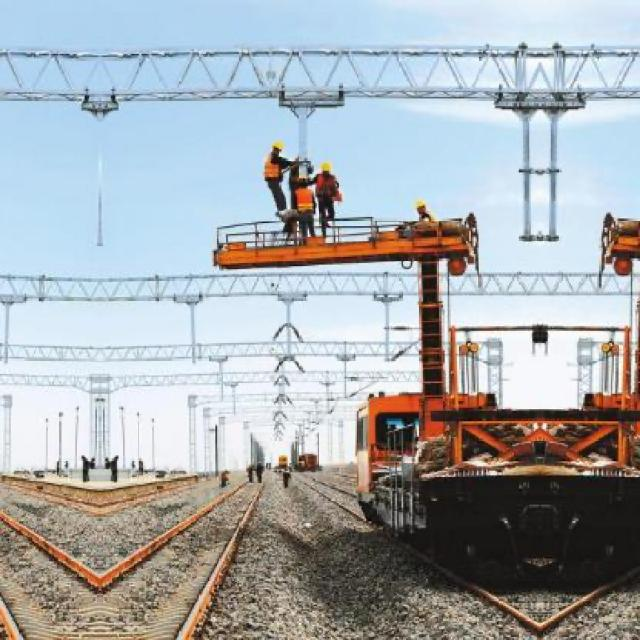helmet: (412, 195, 430, 217), (268, 137, 284, 158), (320, 160, 334, 180)
